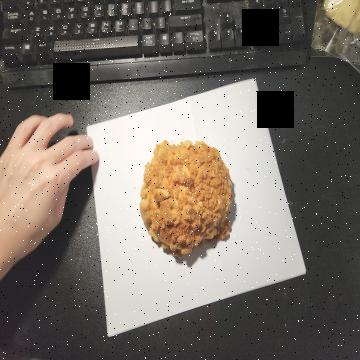soboru_bread: (142, 141, 235, 255)
